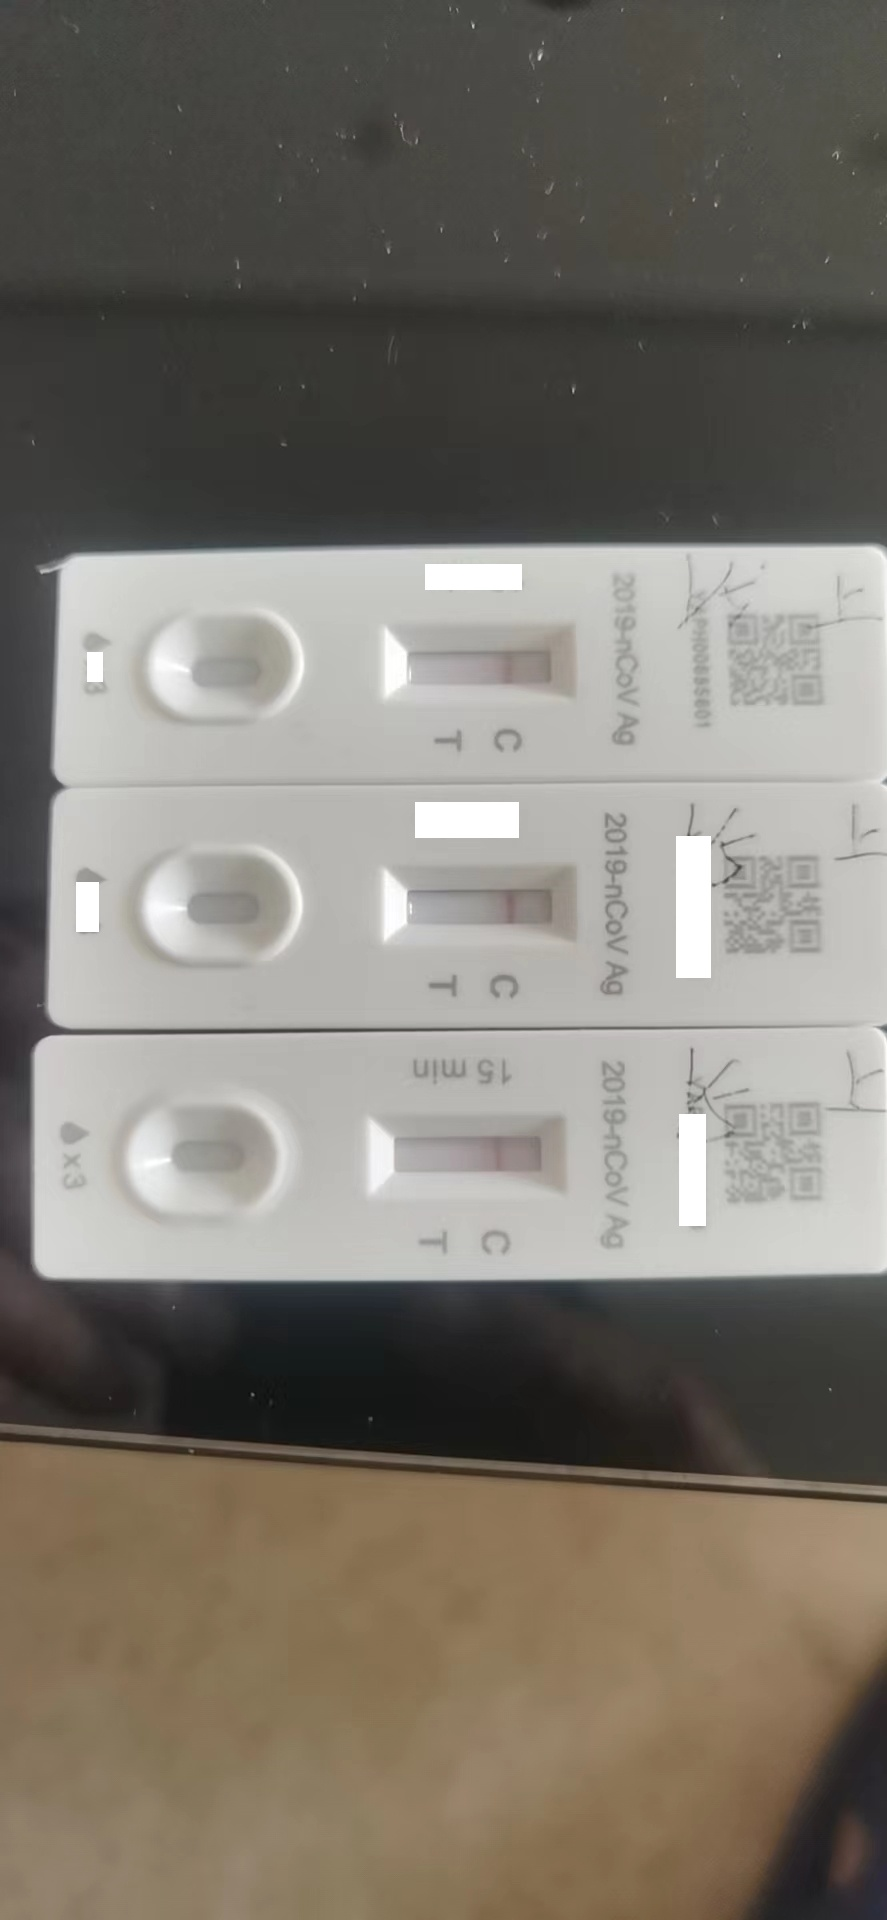negative: (359, 1109, 575, 1199), (381, 620, 586, 702), (379, 866, 583, 947)
